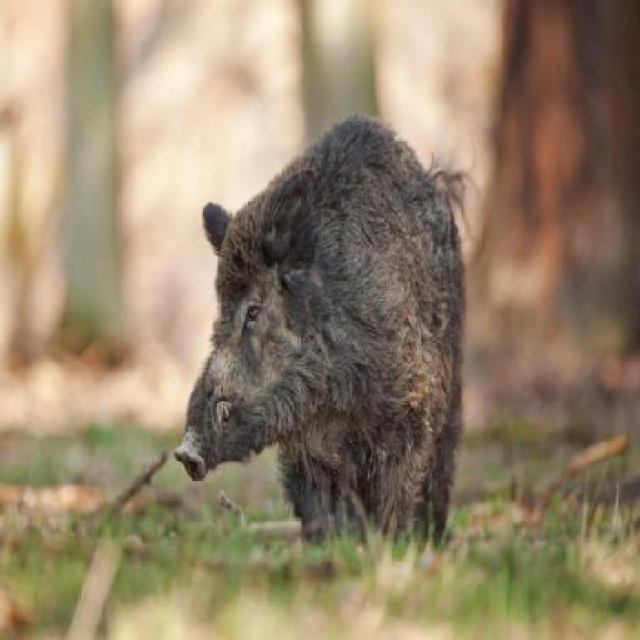Wild Boar: (168, 109, 468, 565)
